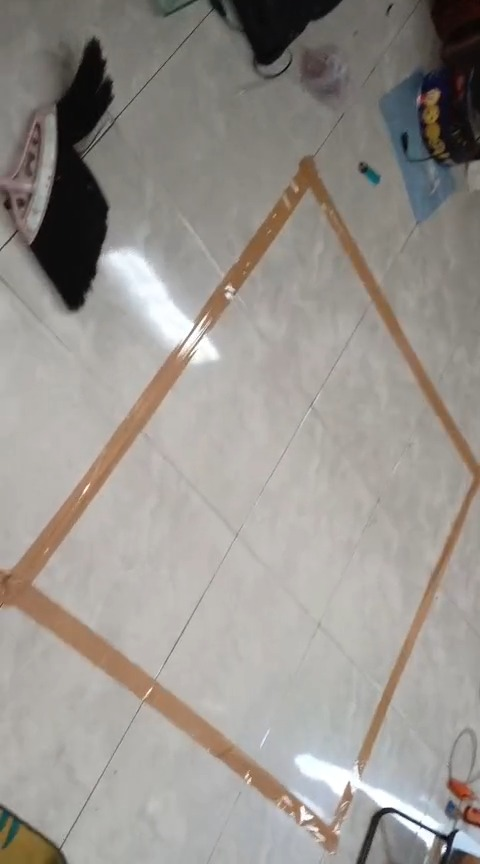floor marking: (0, 156, 479, 850)
